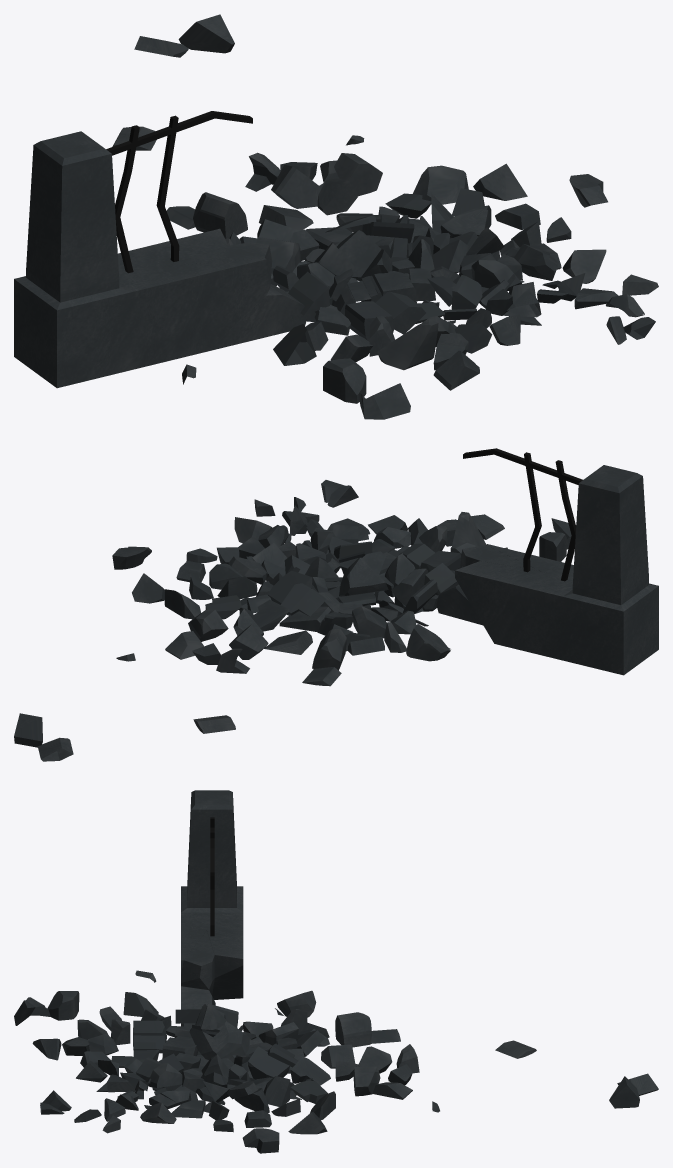
Rendered from ShatteredWall_Model.fbx.
3 views of the same model, one above another, from view 1: azimuth 30°, elevation 25°; view 2: azimuth 150°, elevation 25°; view 3: azimuth 270°, elevation 25° (orthographic). The views are drawn at different scales.
Parts seen in each view (by area): view 1: Cube.003_cell.007, Cube.003_cell.131, Cube.003_cell.161, Cube.003_cell.083, Cube.003_cell.141, Cube.003_cell.085, Cube.003_cell.135, Cube.003_cell.185, Cube.003_cell.208, Cube.003_cell.265, Cube.003_cell.263, Cube.003_cell.091 (+29 smaller); view 2: Cube.003_cell.007, Cube.003_cell.207, Cube.003_cell.263, Cube.003_cell.072, Cube.003_cell.259, Cube.003_cell.085, Cube.003_cell.083, Cube.003_cell.109, Cube.003_cell.047, Cube.003_cell.141, Cube.003_cell.131, Cube.003_cell.161 (+27 smaller); view 3: Cube.003_cell.007, Cube.003_cell.207, Cube.003_cell.263, Cube.003_cell.105, Cube.003_cell.141, Cube.003_cell.259, Cube.003_cell.087, Cube.003_cell.077, Cube.003_cell.109, Cube.003_cell.084, Cube.003_cell.029, Cube.003_cell.047 (+4 smaller).
Part boxes in pixels (x1,y1,x2,y2): Cube.003_cell.007: (14,111,306,388); Cube.003_cell.131: (377,320,438,370); Cube.003_cell.161: (413,165,468,204); Cube.003_cell.083: (271,164,324,208); Cube.003_cell.141: (323,358,366,403); Cube.003_cell.085: (178,14,234,53); Cube.003_cell.135: (358,383,410,419); Cube.003_cell.185: (473,163,527,200); Cube.003_cell.208: (339,230,383,277); Cube.003_cell.265: (273,324,316,365); Cube.003_cell.263: (193,192,236,238); Cube.003_cell.091: (433,350,479,390); Cube.003_cell.007: (436,448,658,675); Cube.003_cell.207: (339,557,388,596); Cube.003_cell.263: (312,628,346,670); Cube.003_cell.072: (281,583,326,616); Cube.003_cell.259: (188,609,228,641); Cube.003_cell.085: (14,713,42,747); Cube.003_cell.083: (229,624,268,659); Cube.003_cell.109: (264,630,312,654); Cube.003_cell.047: (251,599,289,631); Cube.003_cell.141: (539,532,566,561); Cube.003_cell.131: (451,513,486,546); Cube.003_cell.161: (164,589,200,619); Cube.003_cell.007: (181,790,243,1026); Cube.003_cell.207: (189,1021,249,1059); Cube.003_cell.263: (337,1012,371,1047); Cube.003_cell.105: (248,1046,289,1079); Cube.003_cell.141: (47,991,79,1020); Cube.003_cell.259: (354,1066,380,1096); Cube.003_cell.087: (277,990,316,1017); Cube.003_cell.077: (148,1063,182,1087); Cube.003_cell.109: (321,1044,355,1068); Cube.003_cell.084: (357,1046,392,1073); Cube.003_cell.029: (263,1076,290,1106); Cube.003_cell.047: (291,1056,330,1085).
Size of the model in its own units: 724 by 265 by 928.
